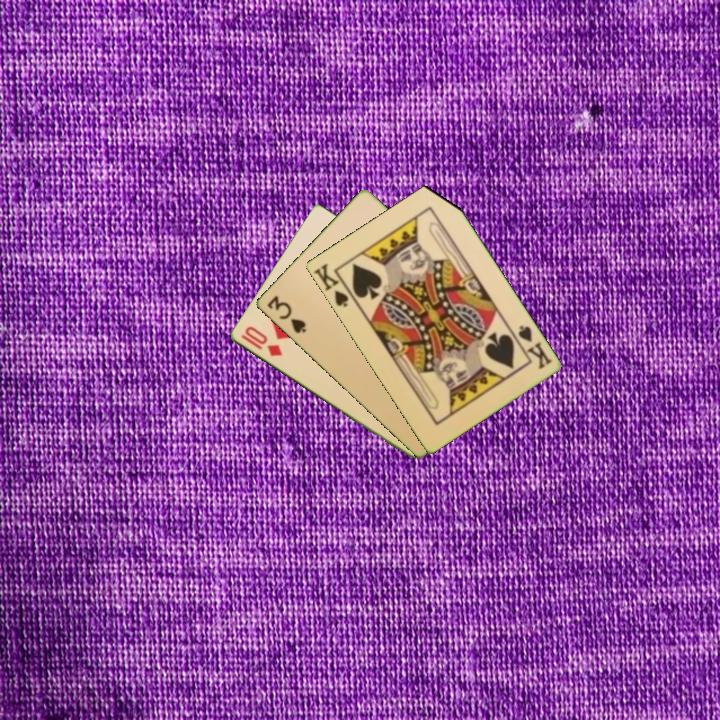10d: (237, 322, 285, 360)
3s: (263, 292, 309, 336)
Ks: (310, 260, 358, 310), (514, 322, 555, 372)
